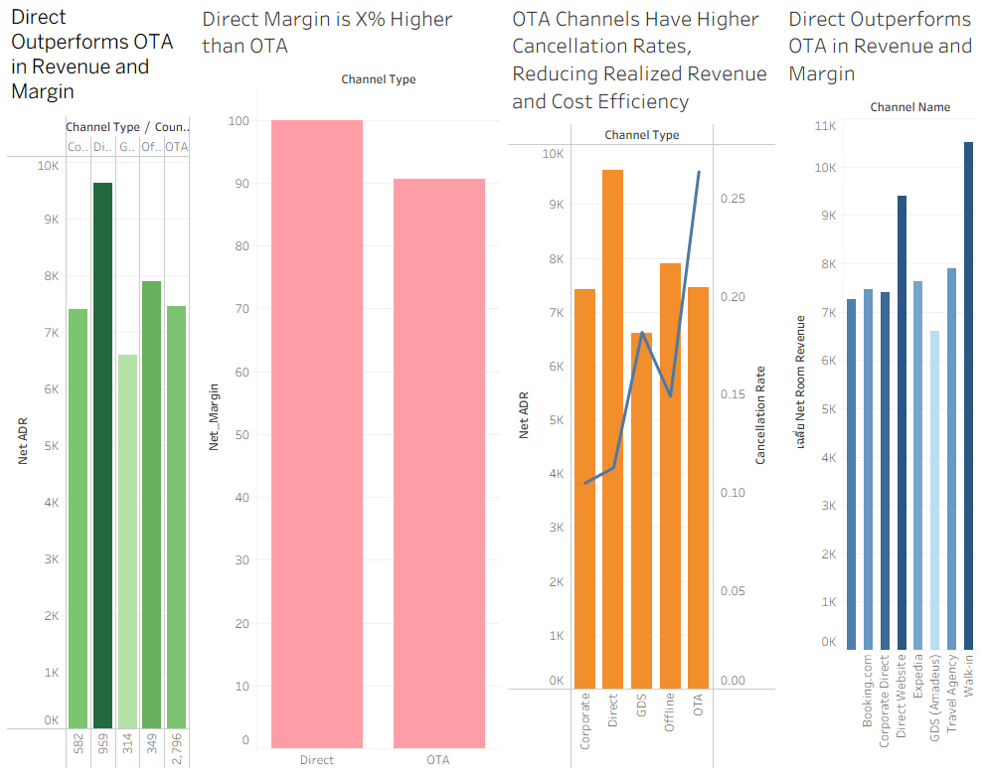

The dashboard page shown, as its layout file describes it:
{"tool":"tableau","page":{"name":"Dashboard 1","canvas":[1000,800],"ordinal":0},"visuals":[{"type":"worksheet","title":"Q1.ช่องทางที่มี Net ADR สูง → มี volume bookings ต่ำหรือสูง","mark":"Automatic","rows":["Calculation_0873624697606155"],"cols":["channel_type","booking_id"],"box":[8,8,192,784]},{"type":"worksheet","title":"++Q2.OTA vs Direct → ต่างกัน กี่ % ใน Net Margin","mark":"Bar","rows":["Calculation_0873624677253120"],"cols":["channel_type"],"box":[200,8,312,784]},{"type":"worksheet","title":"OTA Channels Have Higher Cancellation Rates, Reducing Realized Revenue and Cost Efficiency","mark":"Bar","rows":["Calculation_0873624697606155","Calculation_0873624701788172"],"cols":["channel_type"],"box":[512,8,278,784]},{"type":"worksheet","title":"H1. Direct channels มี Net ADR และ Net Margin สูงกว่า OTA channels อย่างมีนัยสำคัญ (2)","mark":"Bar","rows":["net_room_revenue"],"cols":["channel_name"],"box":[790,8,202,784]}]}

Visuals, with their boxes on the page's 1000x800 design canvas (x1, y1, x2, y2). These are canvas units, not pixel positions in the 1008x775 screenshot, which may show the page scaled, cropped or inside an application window:
"Q1.ช่องทางที่มี Net ADR สูง → มี volume bookings ต่ำหรือสูง" worksheet: Rect(8, 8, 200, 792)
"++Q2.OTA vs Direct → ต่างกัน กี่ % ใน Net Margin" worksheet (Bar marks): Rect(200, 8, 512, 792)
"OTA Channels Have Higher Cancellation Rates, Reducing Realized Revenue and Cost Efficiency" worksheet (Bar marks): Rect(512, 8, 790, 792)
"H1. Direct channels มี Net ADR และ Net Margin สูงกว่า OTA channels อย่างมีนัยสำคัญ (2)" worksheet (Bar marks): Rect(790, 8, 992, 792)
